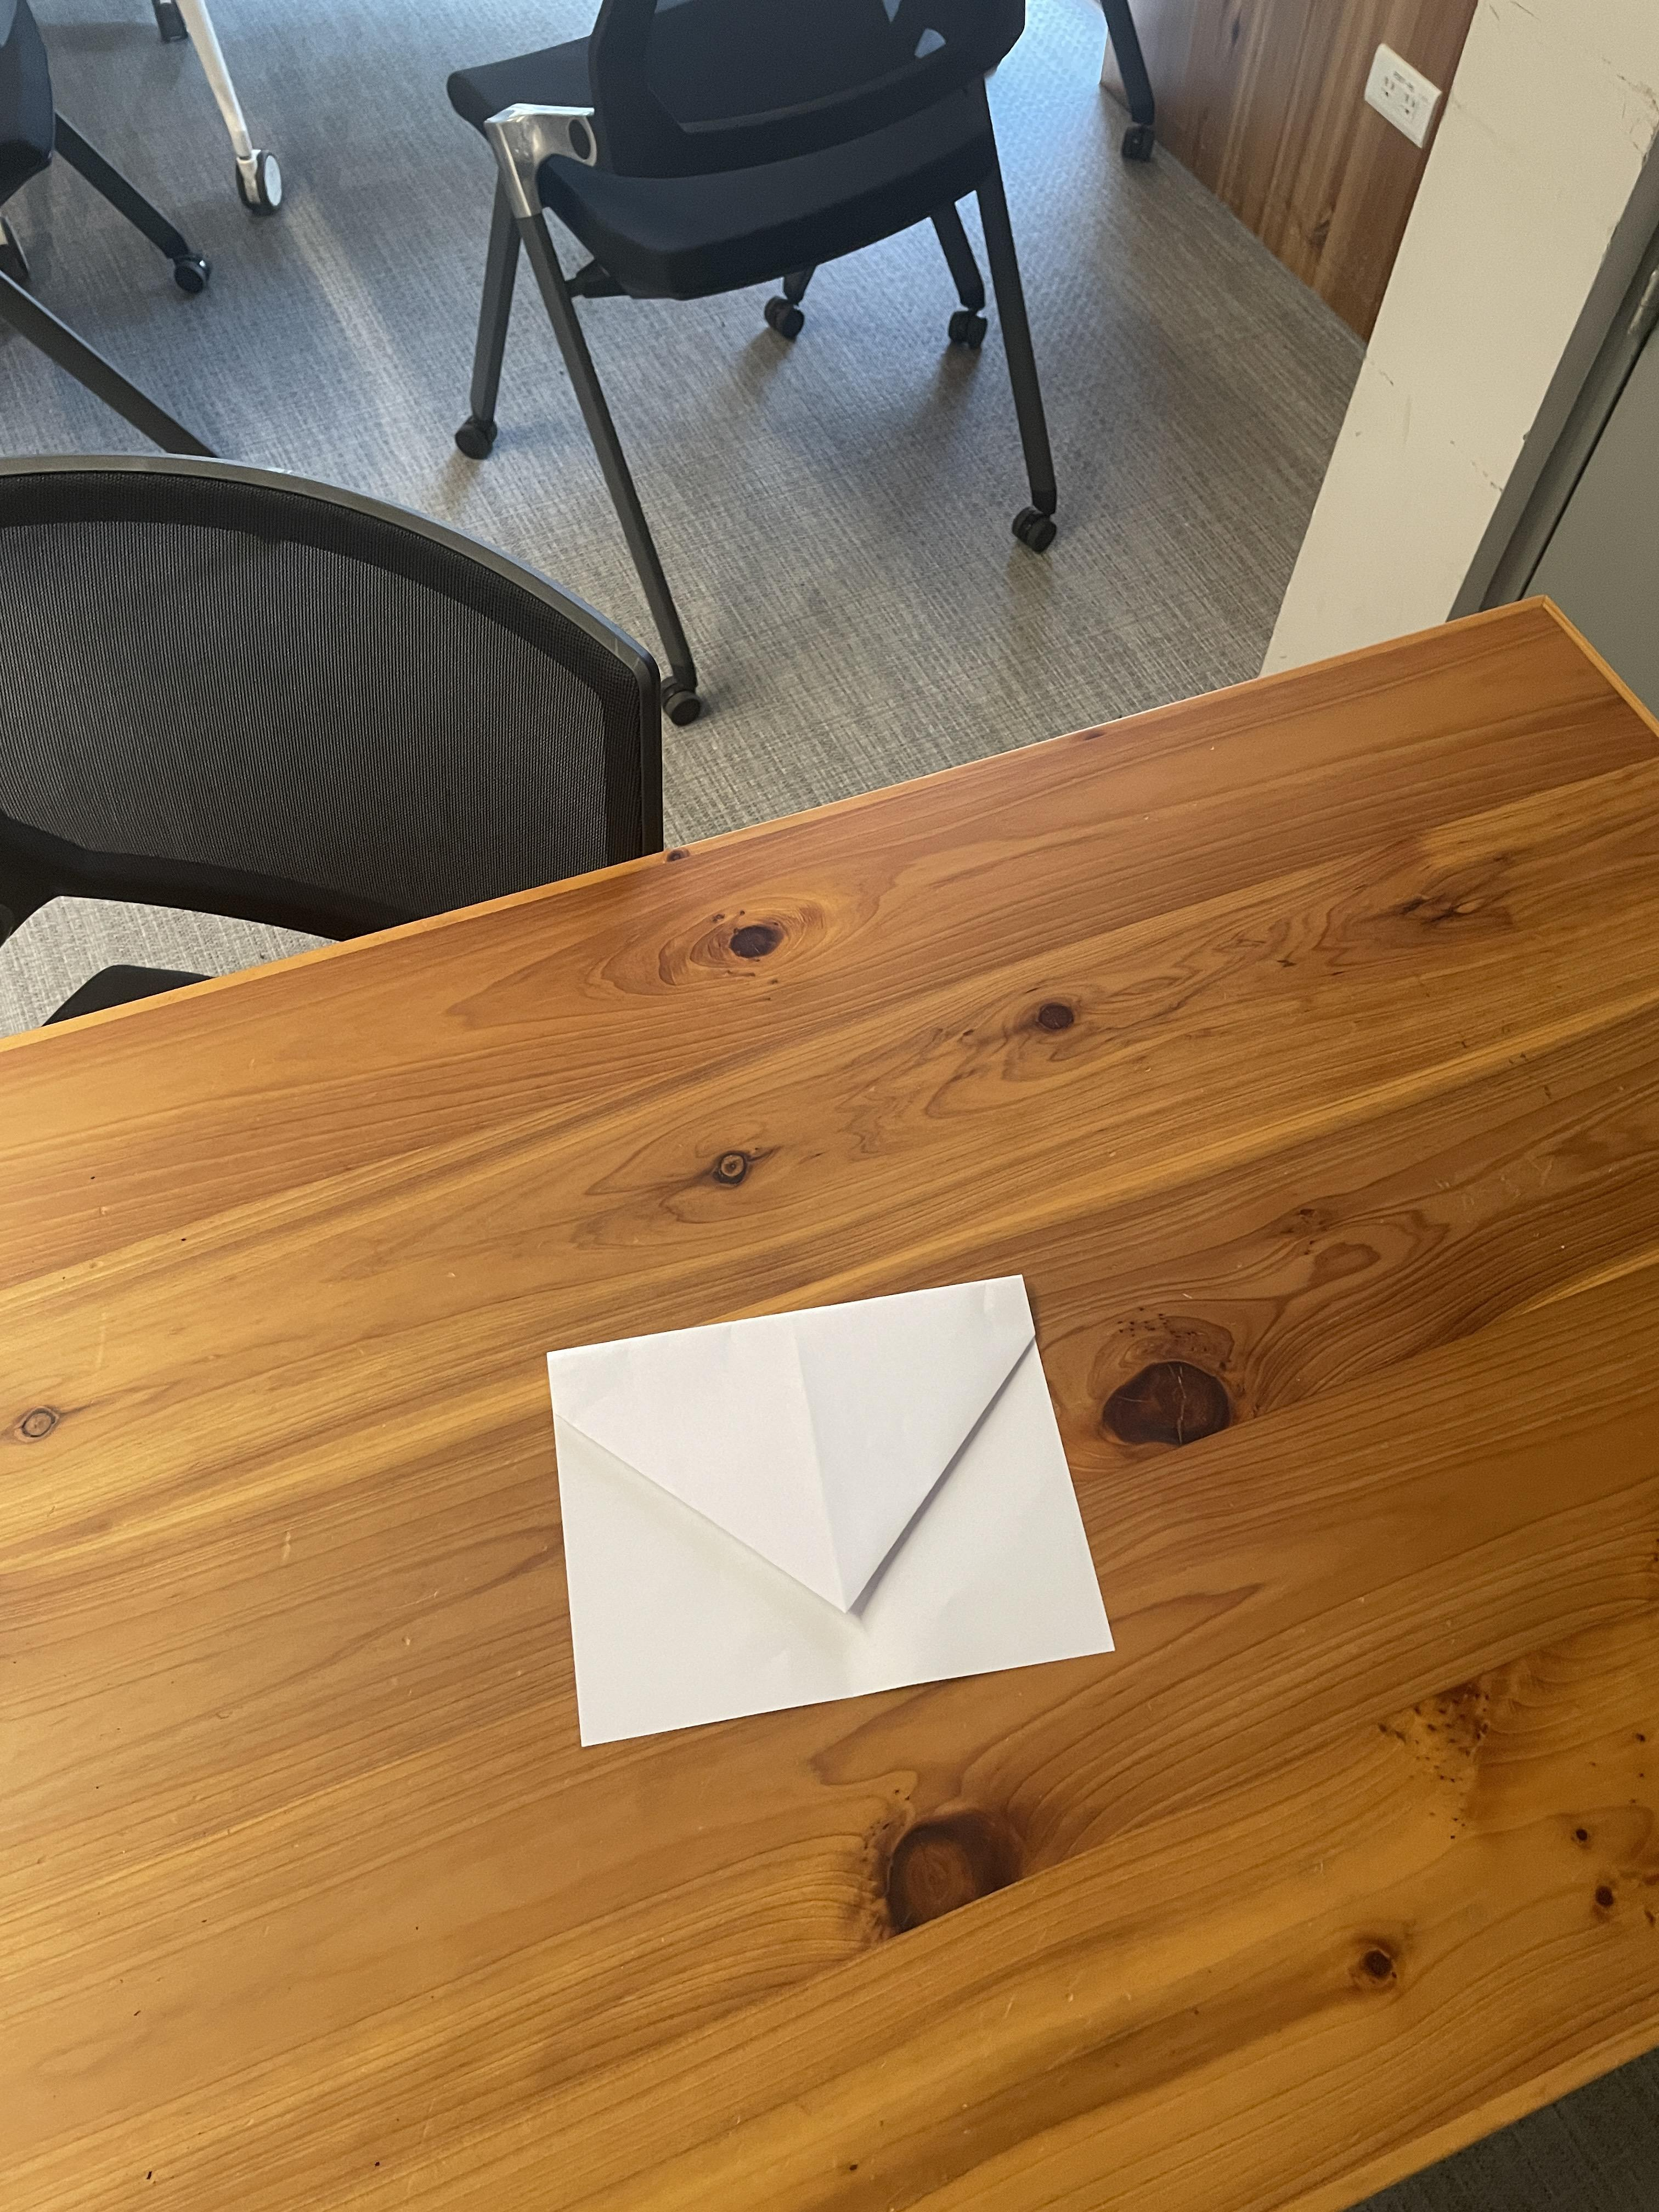shape_1: (450, 1197, 1246, 1832)
